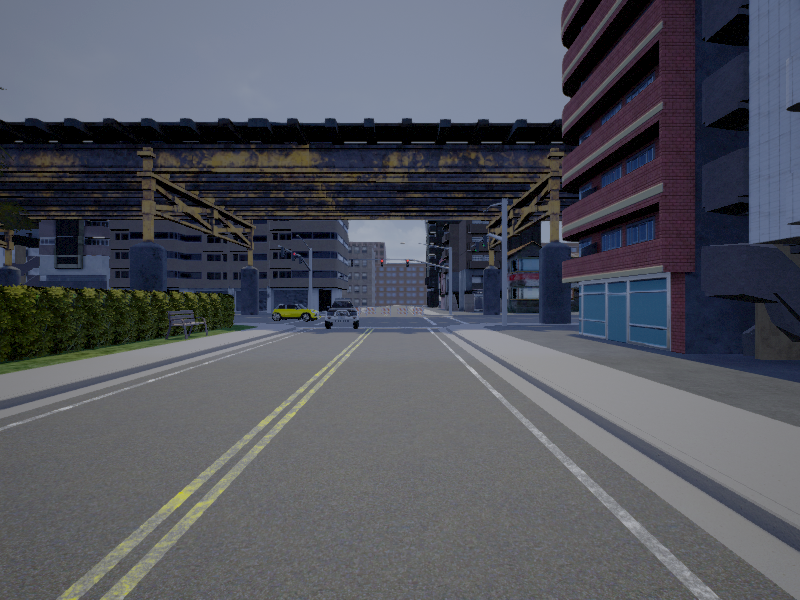Benign: (324, 302, 361, 330), (272, 304, 319, 323)
